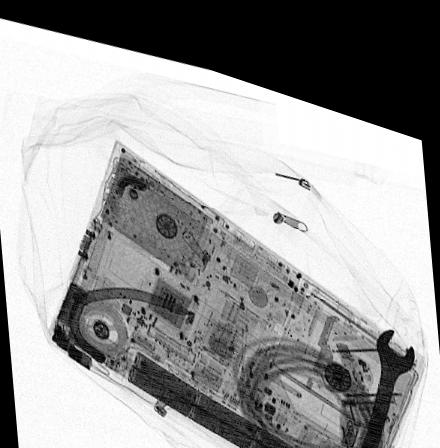Wrench: (343, 301, 416, 448)
